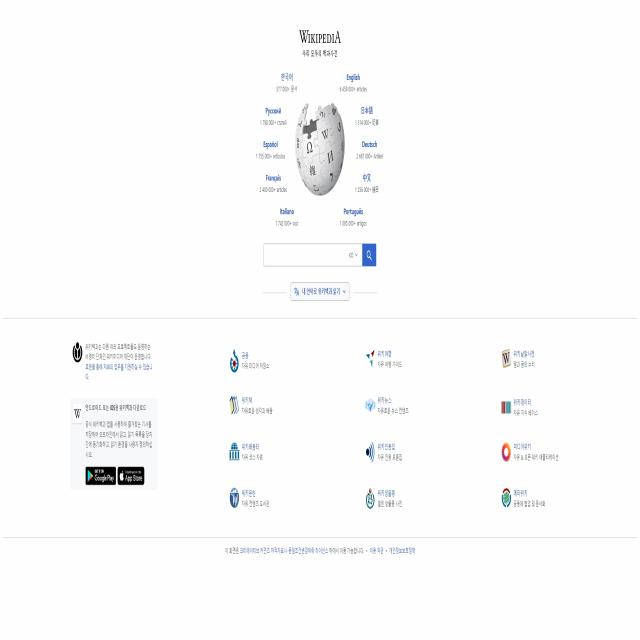search: (262, 236, 378, 272)
